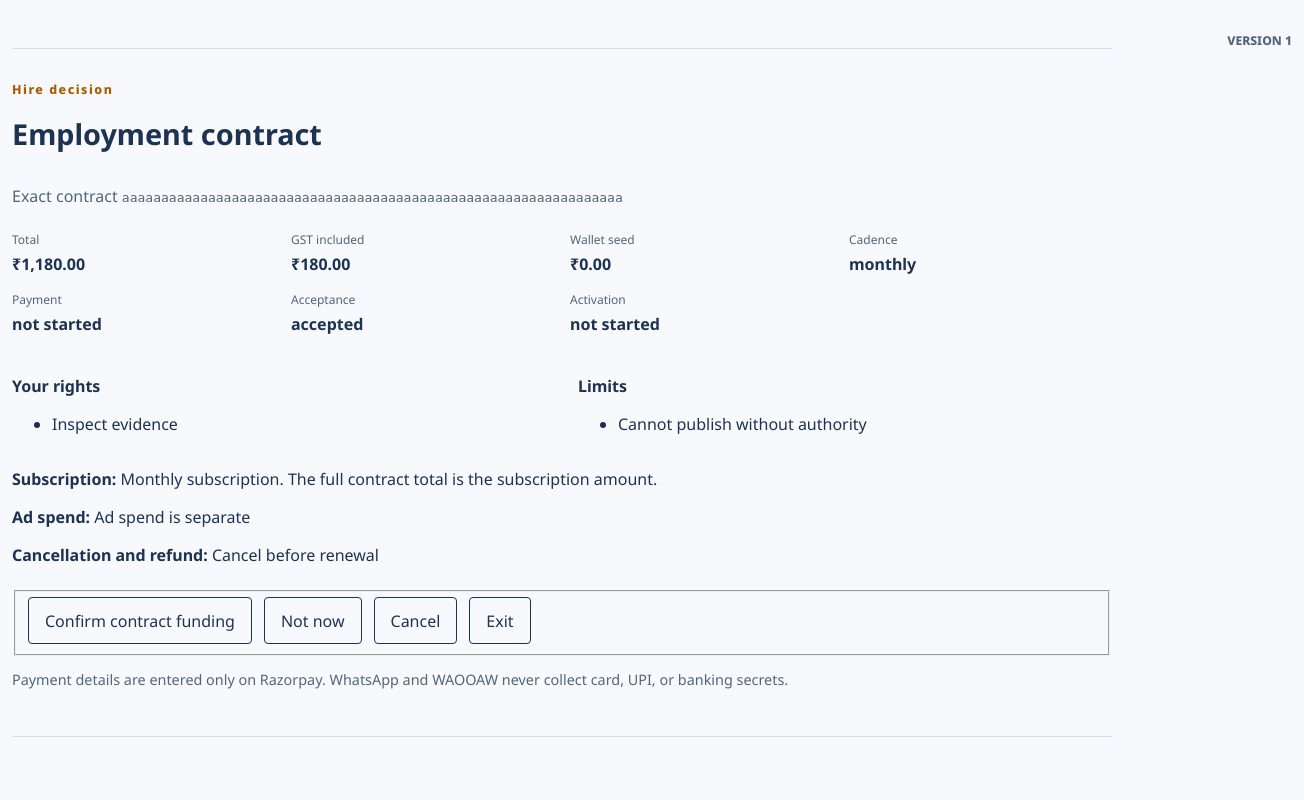
Test case: ContractJourney Razorpay Standard Checkout › records no state-changing request when the customer defers or cancels
Click the button "Not now" at [313, 621], box [264, 597, 362, 644]
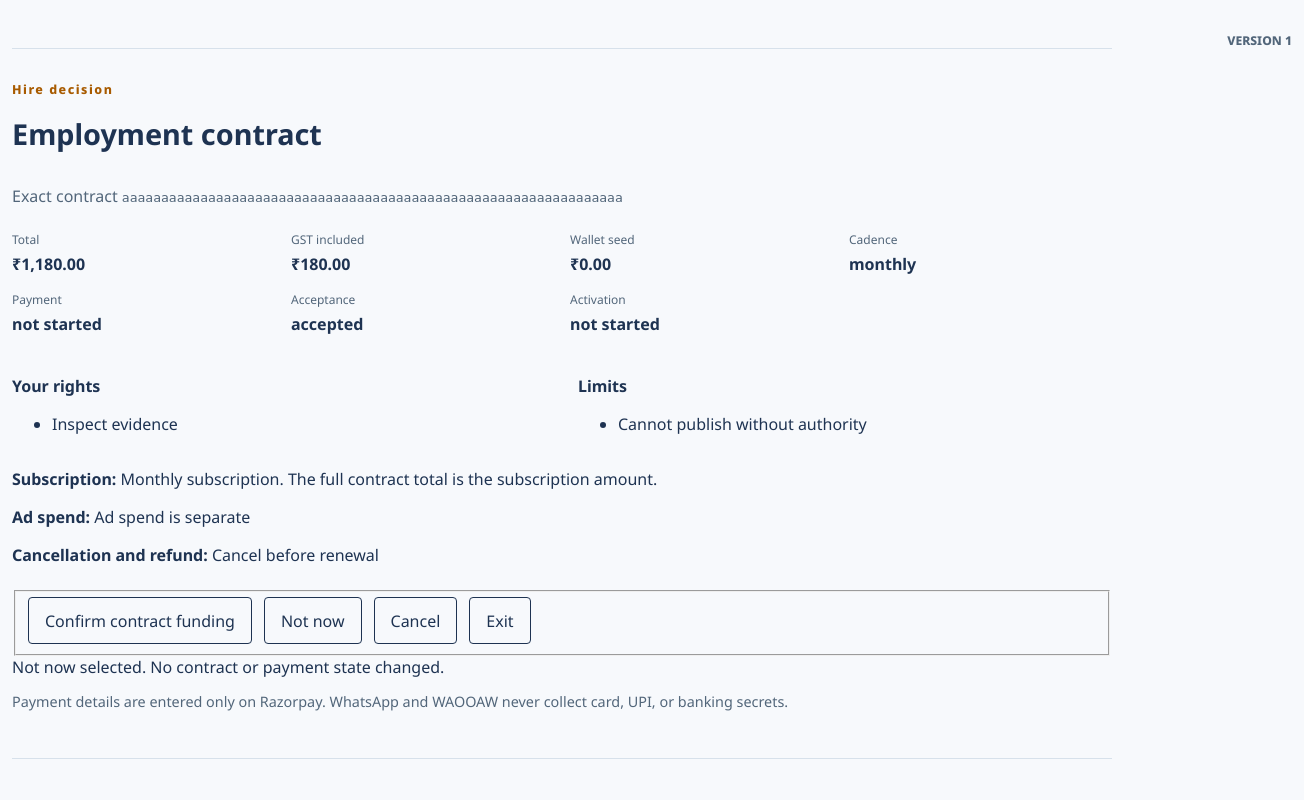
Now the text "Not now selected. No contract or payment state changed." is shown, box [12, 656, 444, 678]
Click the button "Cancel" at [415, 621], box [374, 597, 457, 644]
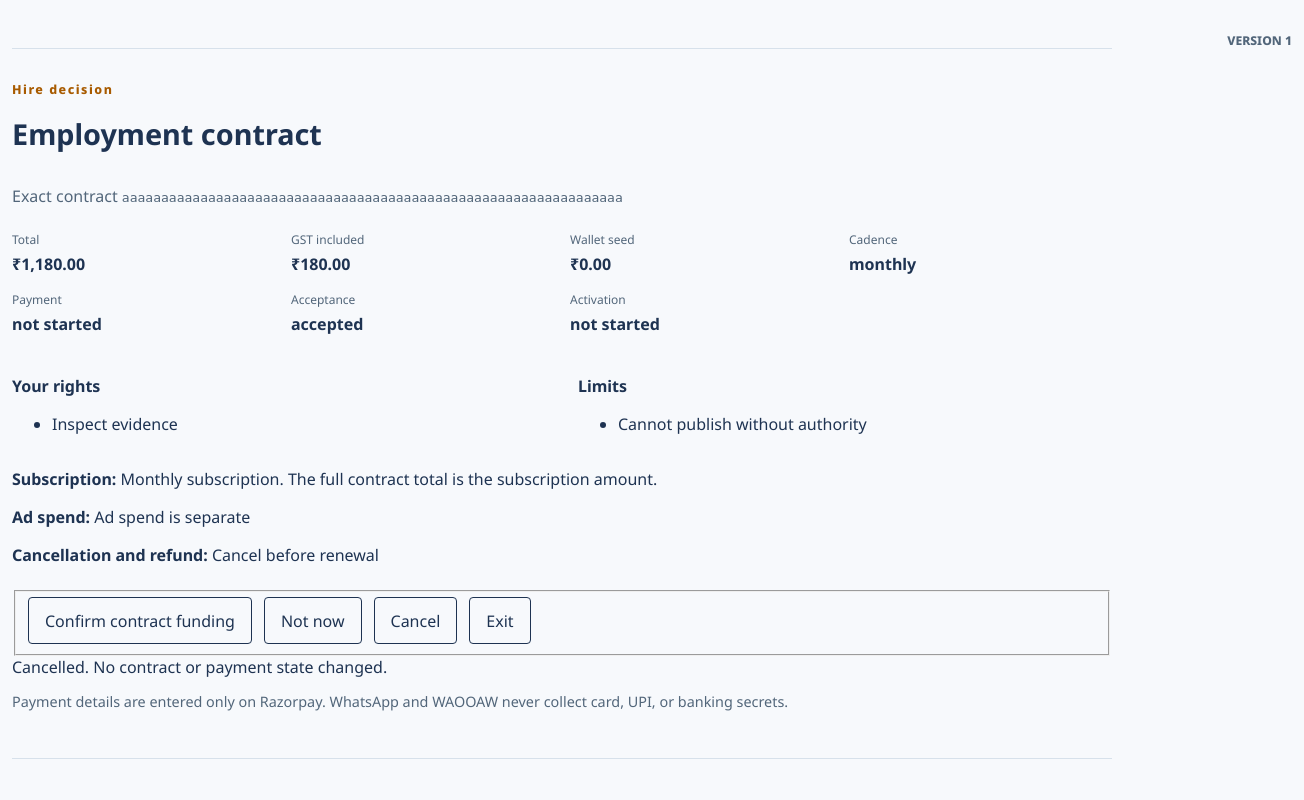
Now the text "Cancelled. No contract or payment state changed." is shown, box [12, 656, 387, 678]
